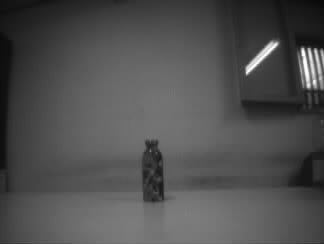Bottle: (141, 139, 164, 202)
